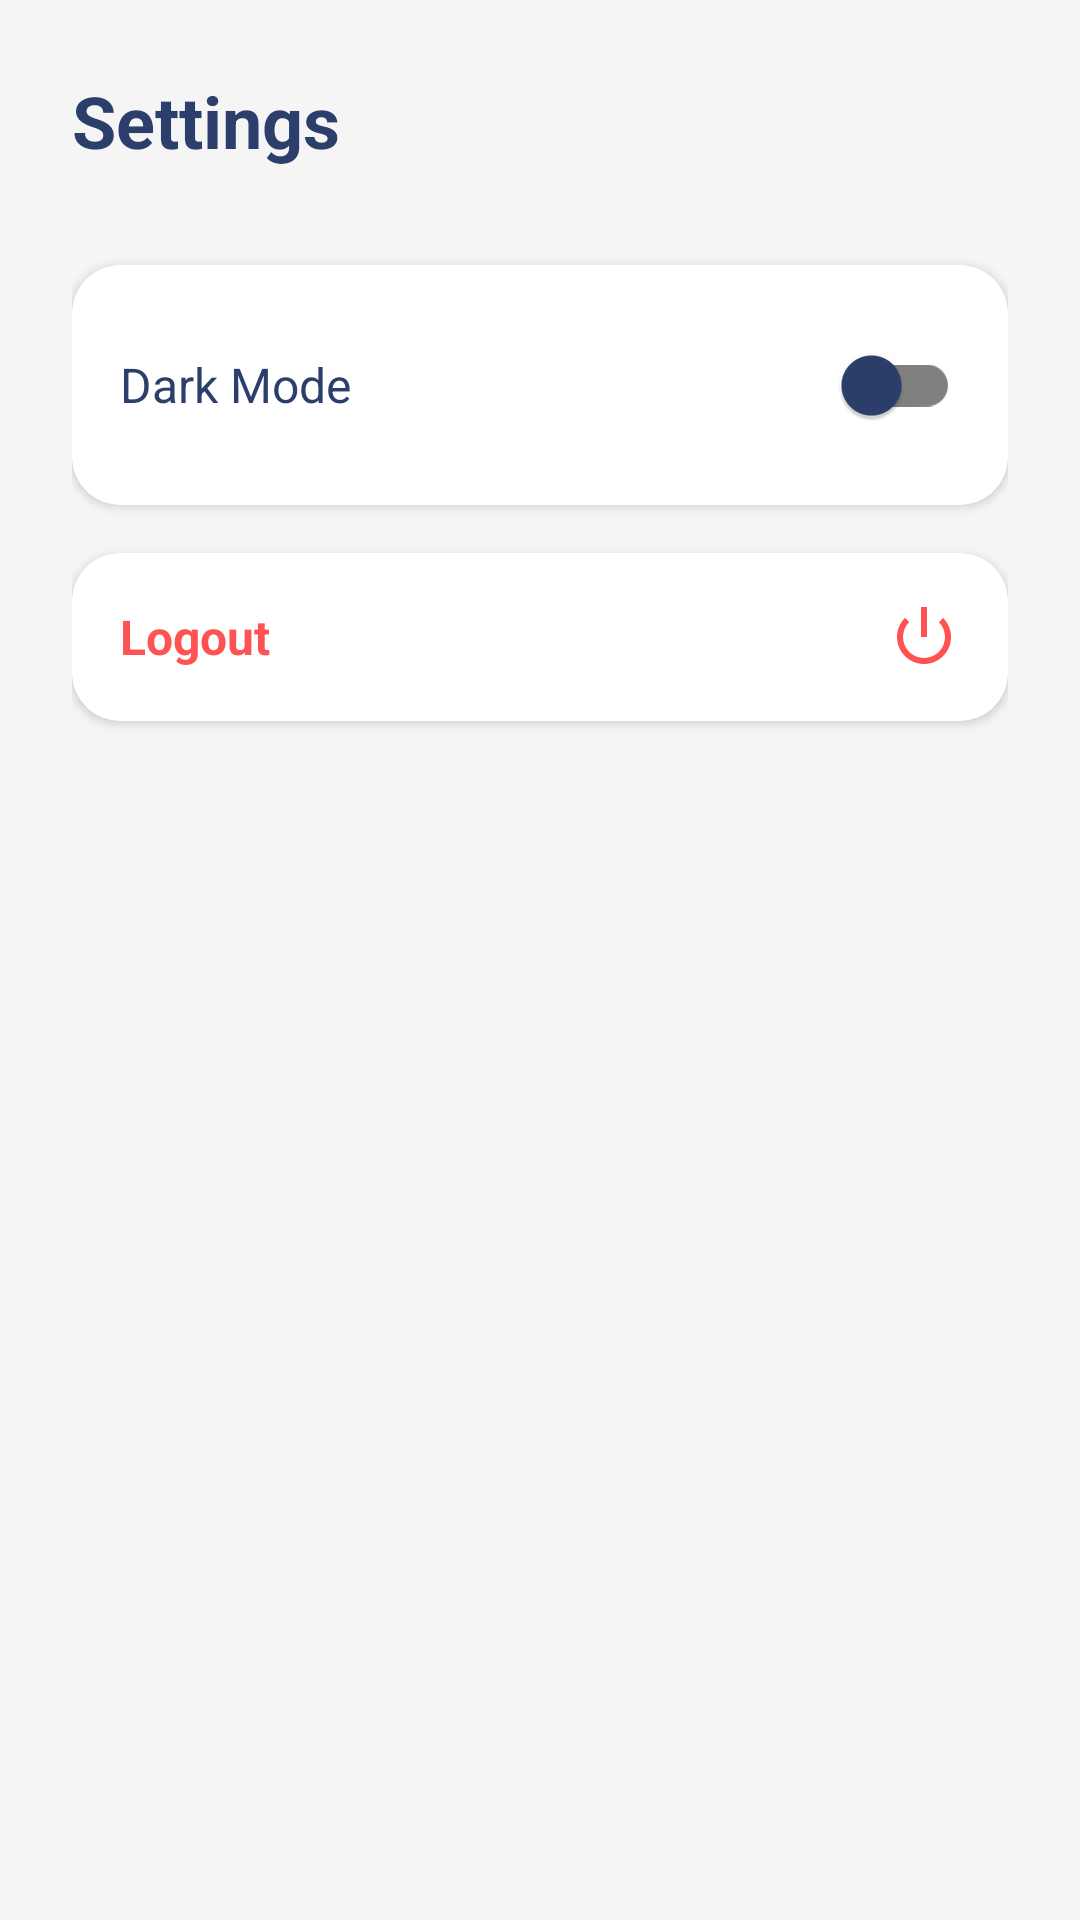

Icon bounding boxes for this 1080px x 1920px phone screenshot, format (x1, y1, x2, y2):
lock power off: (897, 607, 951, 664)
